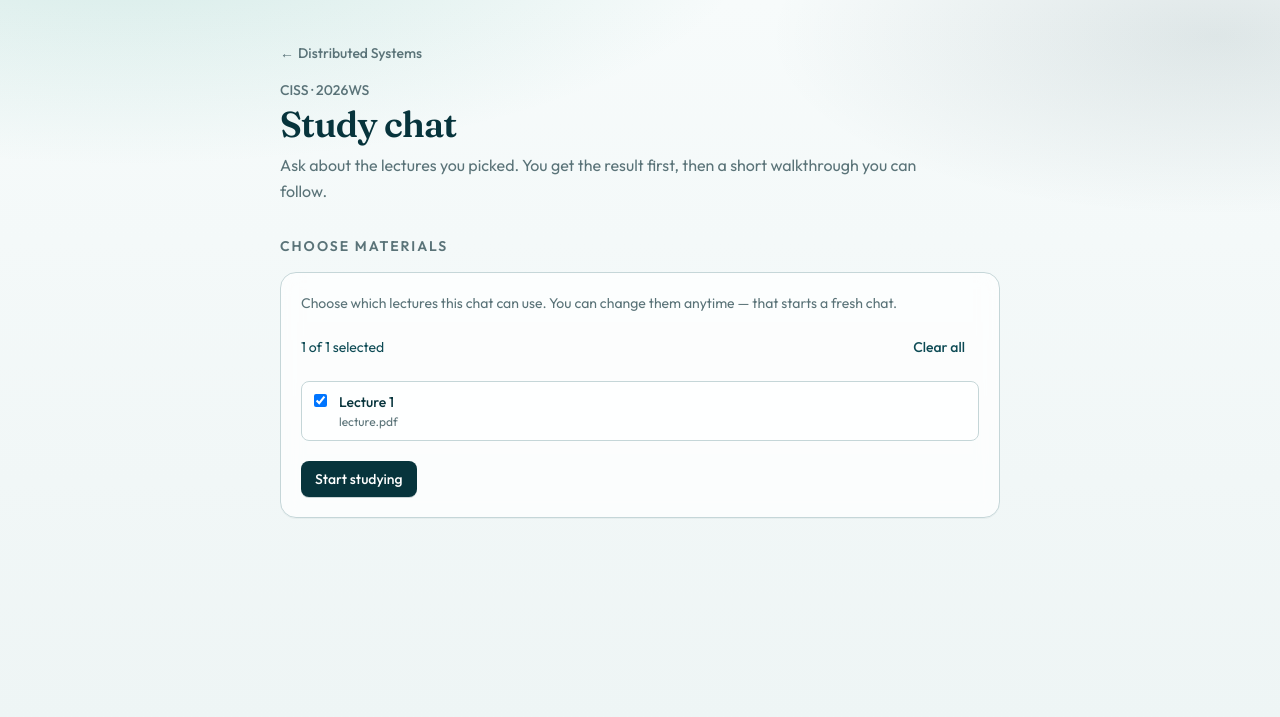
Test case: course study chat page › labels an answer without citations as unverified
The image size is (1280, 717).
Click the button "Start studying": x=359, y=479 301,461 -> 417,497
(page scrolled)
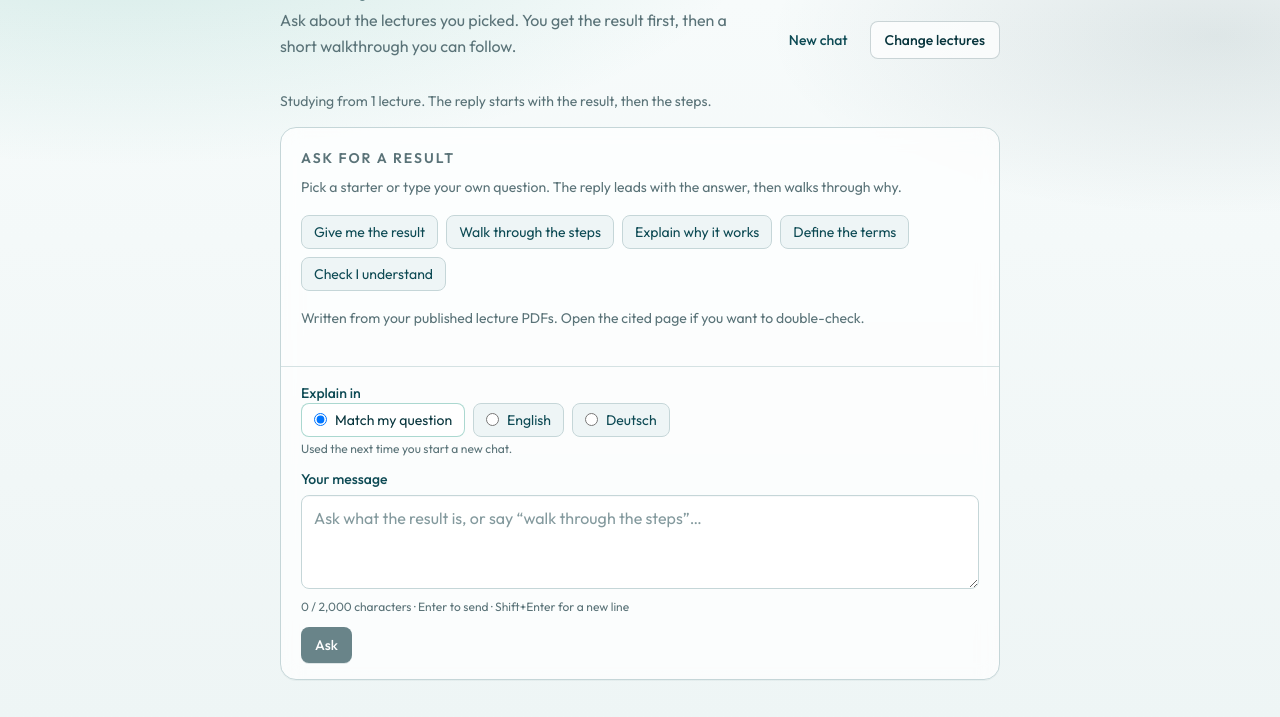
In the text box labelled "Your message": x=640, y=542 301,494 -> 979,588, type "What is the dining philosophers problem?"
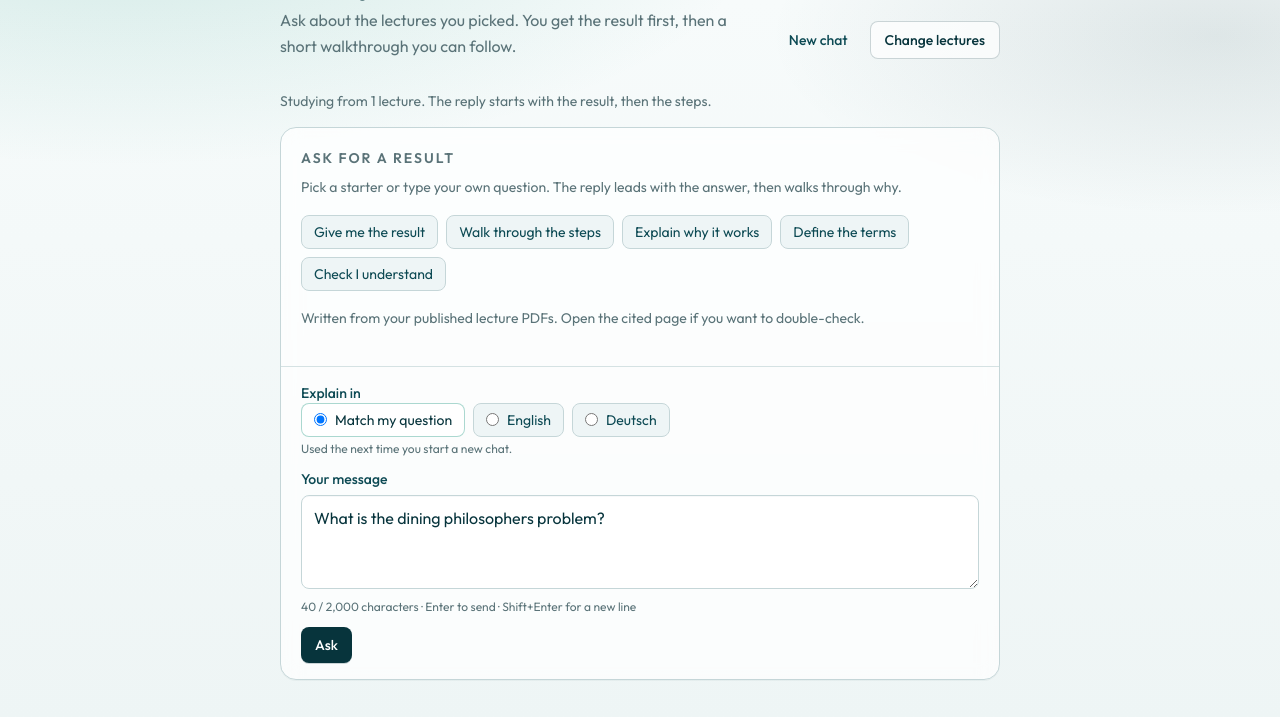
Click the button "Ask": x=326, y=644 301,626 -> 352,662
(page scrolled)
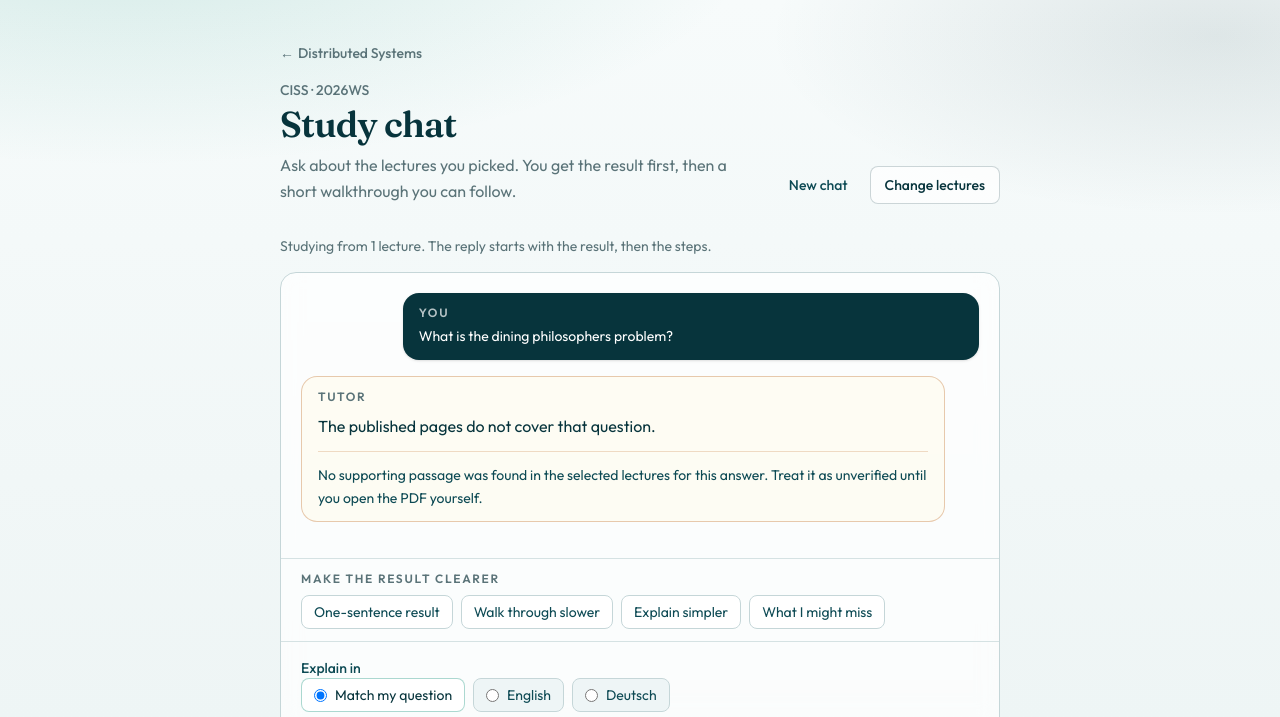
Result: the text "No supporting passage was found" is shown at 318,466 -> 926,507
Result: the text "The published pages do not cover that question." is shown at 318,416 -> 656,436
